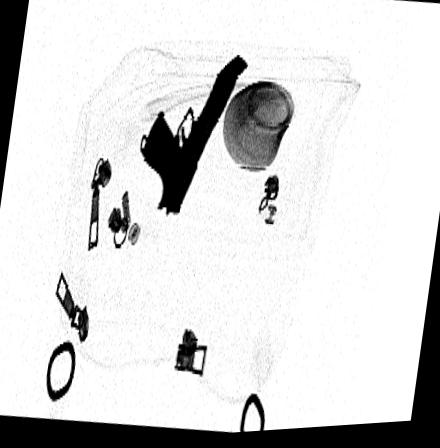Gun: (140, 56, 249, 221)
